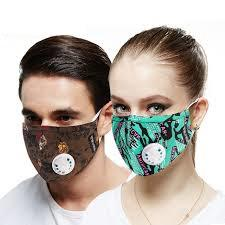OK: (110, 90, 193, 174), (15, 101, 93, 179)
